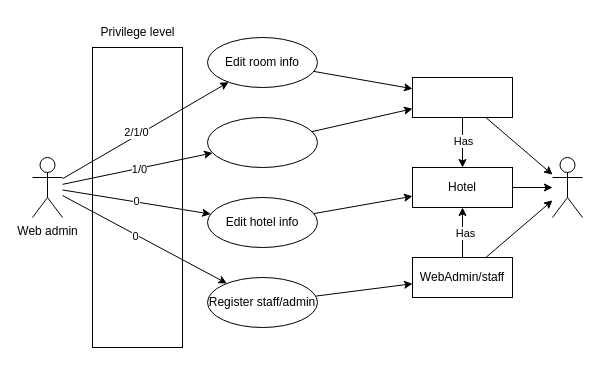
Some shapes in this 604 by 365 pixel diagram are drawn without their labels. Here are the shapes that lost their labels. From the top down, the box of each, then its label:
(412, 76, 512, 118): Room
(206, 116, 318, 168): Add/delete room
(552, 156, 582, 218): System
